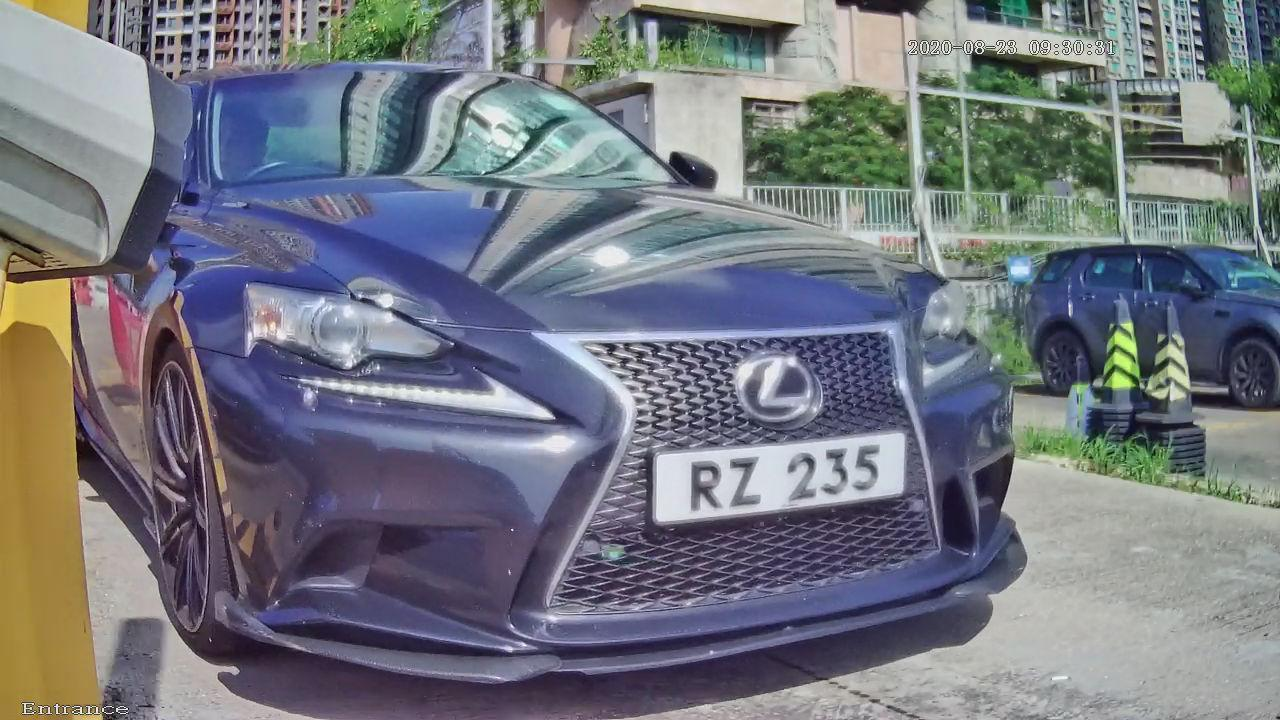Car: (58, 23, 1086, 711)
License Plate: (616, 397, 950, 555)
